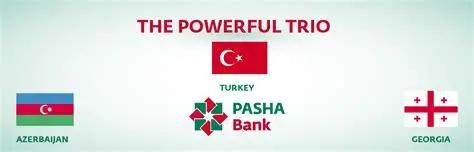Pasha Bank: (187, 95, 229, 136)
